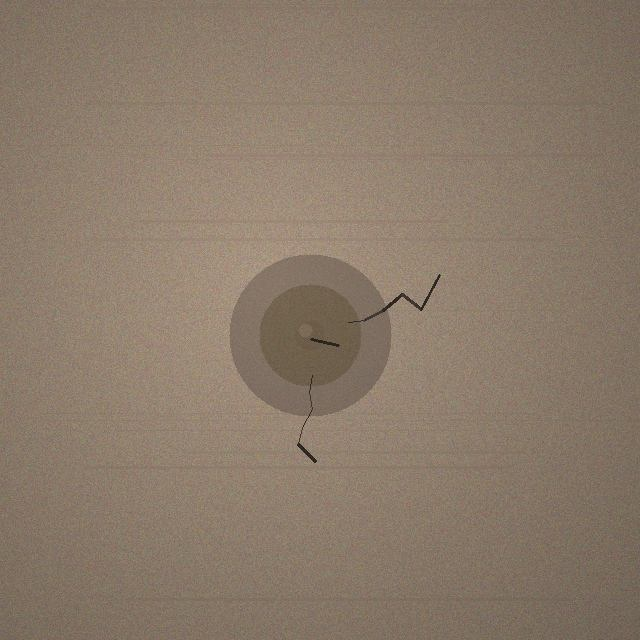crack: (229, 254, 391, 416)
